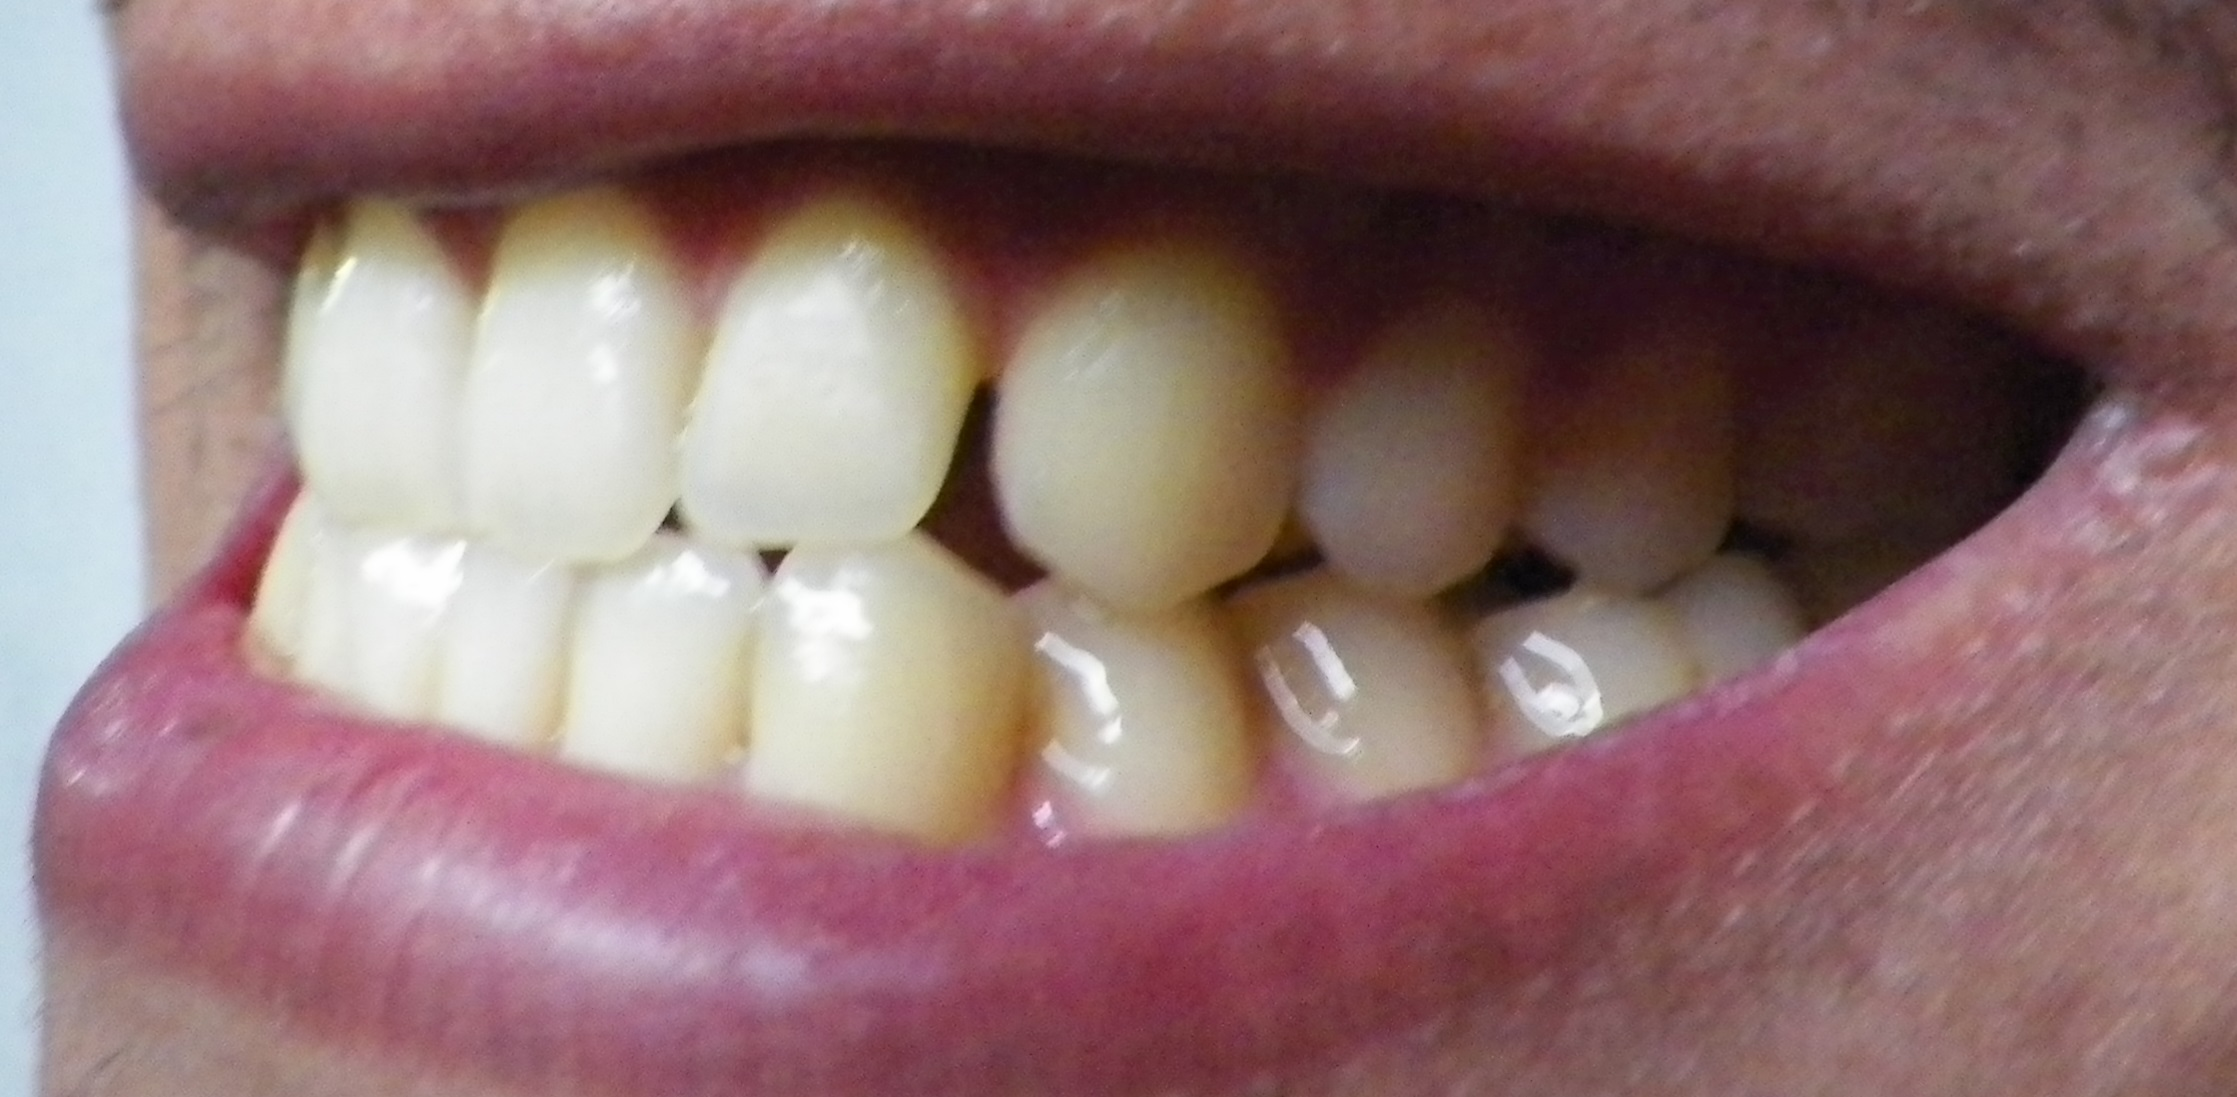boca: (233, 180, 1925, 825)
